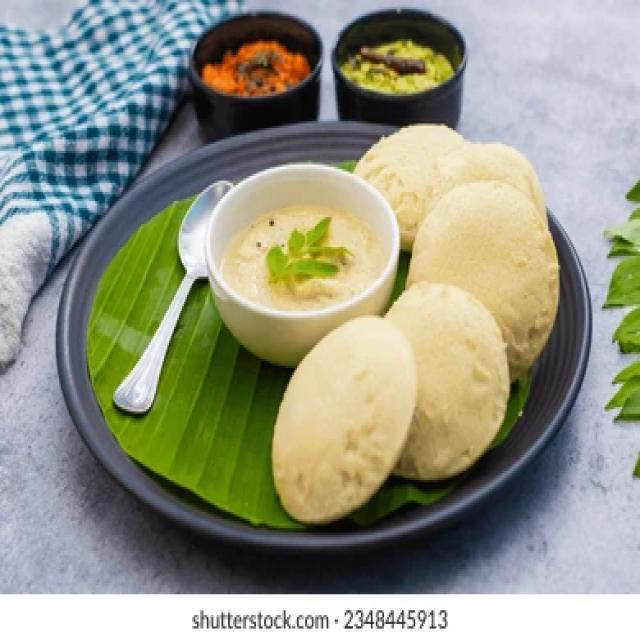IDLI: (407, 181, 558, 379), (272, 318, 415, 519), (386, 281, 509, 478), (356, 126, 461, 249), (427, 142, 543, 208)
